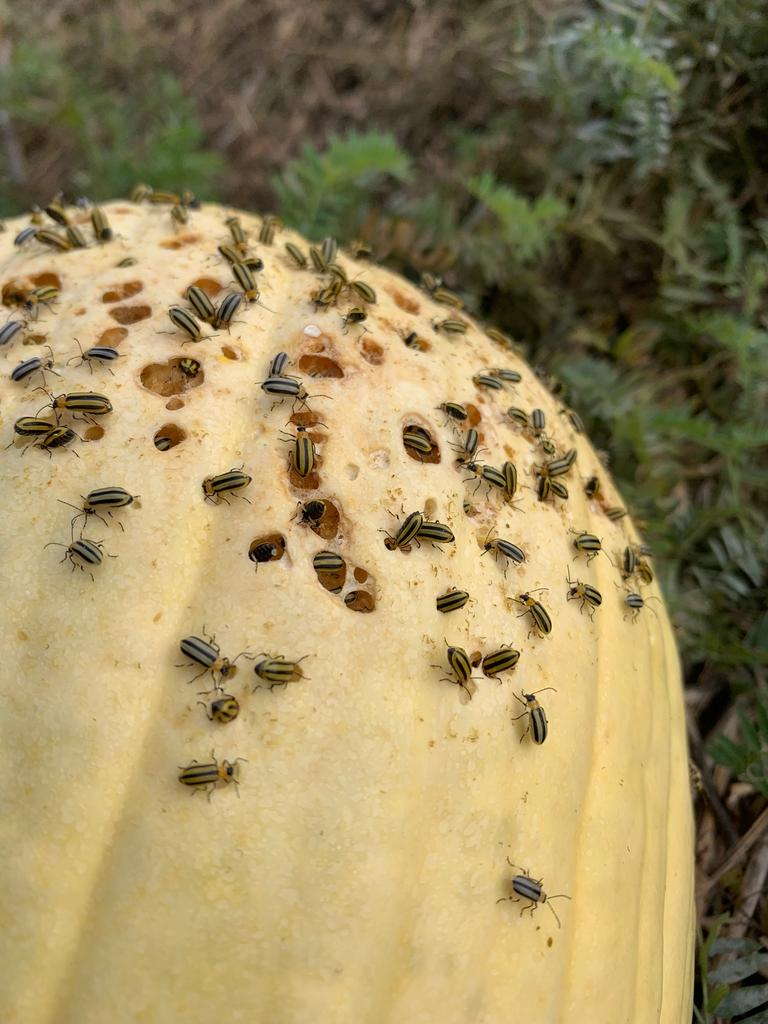potato_beetle: (26, 510, 130, 598), (162, 611, 249, 702), (238, 632, 329, 703), (499, 672, 567, 763), (163, 744, 256, 810), (55, 466, 154, 527), (37, 372, 131, 433), (465, 513, 538, 584), (423, 623, 484, 702), (190, 455, 267, 512), (503, 580, 568, 644), (275, 417, 330, 491), (374, 495, 433, 562), (447, 450, 513, 506)
